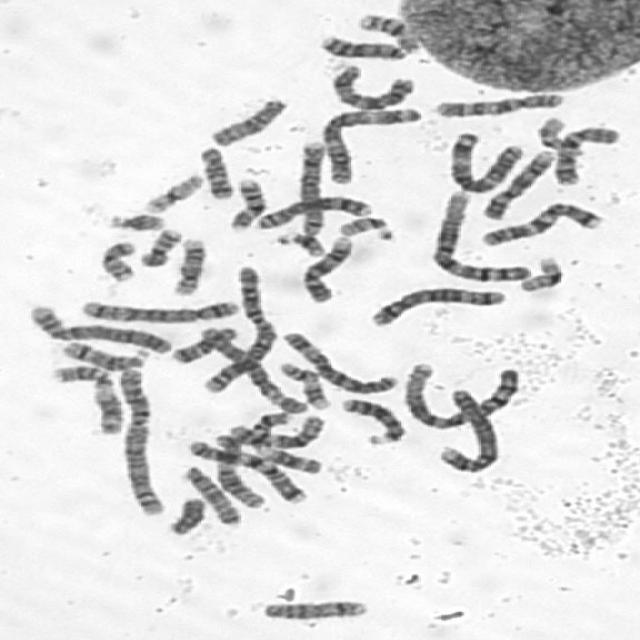A1: (428, 188, 533, 282), (398, 359, 523, 431)
A2: (200, 264, 276, 394), (113, 364, 167, 517)
A3: (319, 104, 422, 186), (444, 129, 524, 195)
B4: (23, 301, 174, 356), (434, 386, 500, 474)
B5: (366, 285, 506, 328), (76, 296, 242, 324)
C10: (552, 125, 621, 187), (431, 90, 565, 118)
C11: (48, 361, 123, 436), (250, 411, 322, 477)
C12: (209, 434, 267, 508), (225, 415, 328, 449)
C6: (198, 323, 310, 415), (279, 328, 399, 396)
C7: (182, 437, 309, 505), (476, 198, 606, 248)
C8: (251, 193, 375, 230), (296, 138, 328, 238)
C9: (476, 147, 556, 220), (298, 233, 356, 304)
D13: (338, 396, 407, 445), (316, 32, 408, 61)
D14: (58, 339, 148, 371), (256, 600, 364, 620)
D15: (206, 95, 290, 149), (178, 464, 242, 526)
E16: (355, 12, 421, 54), (226, 176, 266, 232)
E17: (276, 360, 332, 411), (169, 236, 208, 298)
E18: (167, 323, 240, 365), (197, 144, 234, 200)
F19: (140, 172, 206, 214), (514, 253, 566, 293)
F20: (95, 238, 139, 283), (140, 230, 182, 268)
G21: (273, 229, 328, 259), (103, 210, 168, 232)
G22: (533, 116, 581, 154), (334, 214, 394, 240)
X: (326, 62, 416, 112)
Y: (163, 495, 208, 537)
